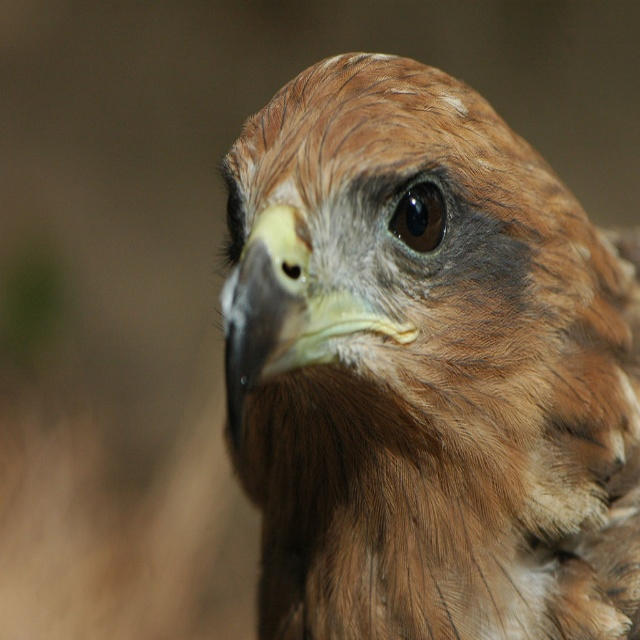Eagle: (210, 49, 636, 639)
